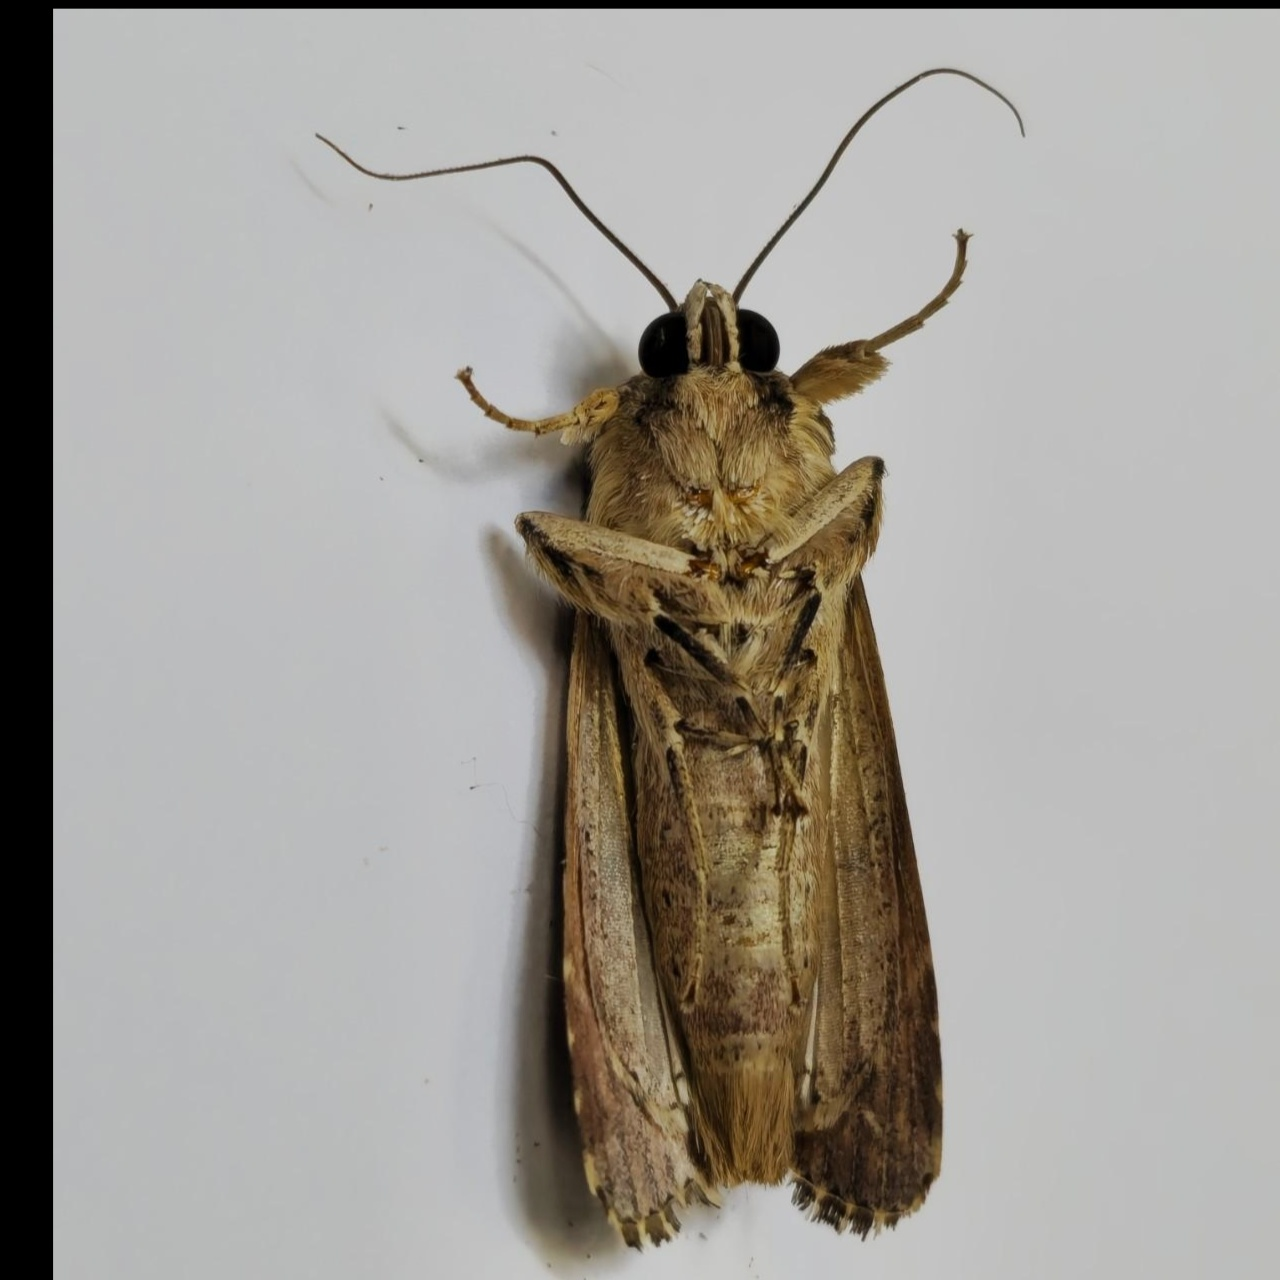Spodoptera litura: (316, 67, 1026, 1252)
